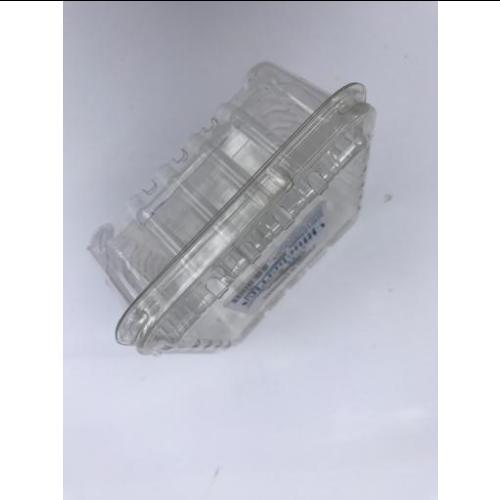plastic: (88, 62, 378, 357)
